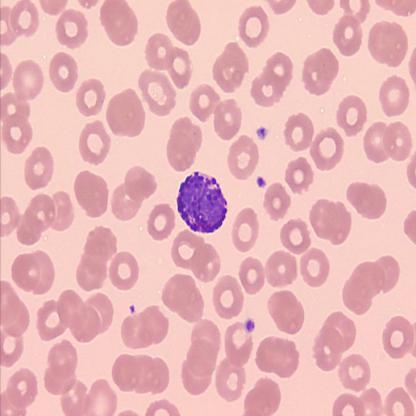Basophil: (175, 169, 230, 236)
